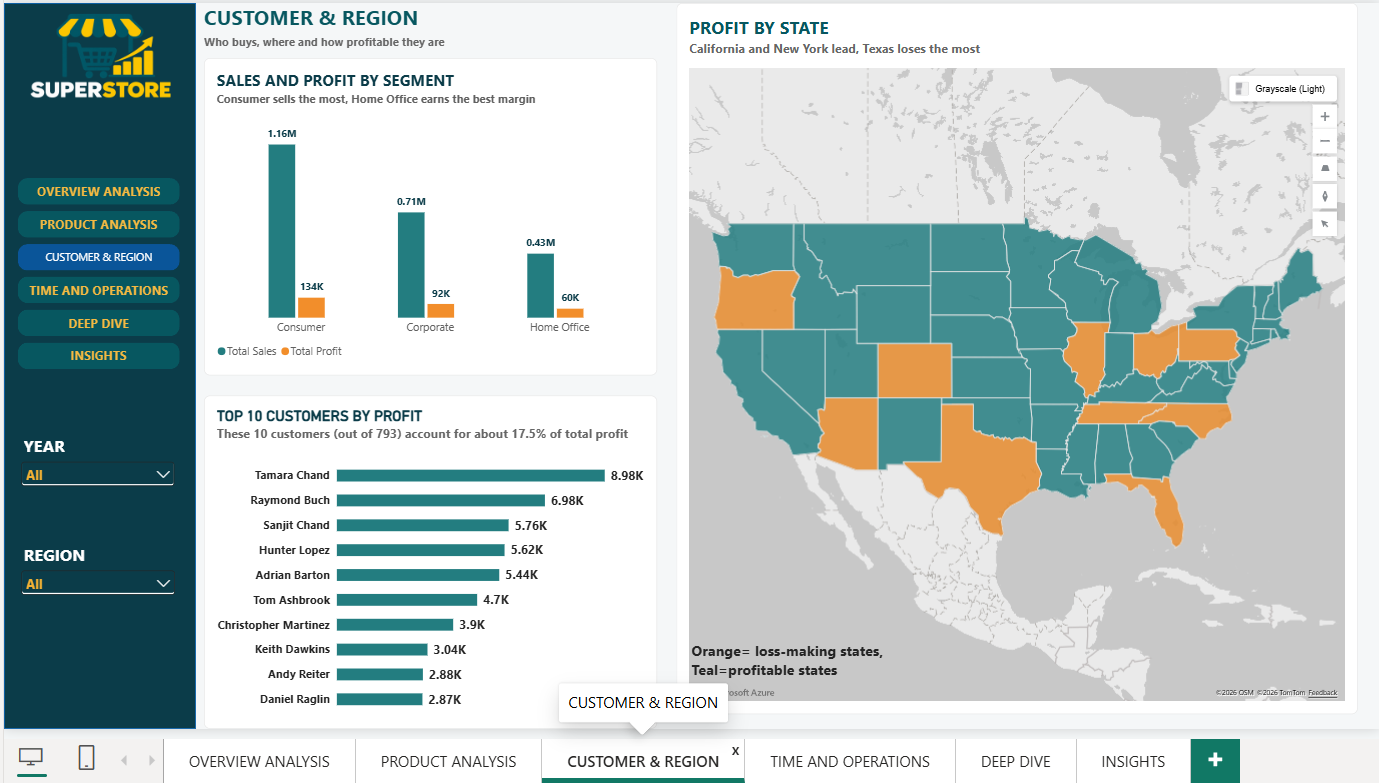

Layout of this report page (visuals, bound fields, positions):
{"tool":"powerbi","page":{"name":"CUSTOMER & REGION","canvas":[1800,950],"ordinal":2},"visuals":[{"type":"shape","box":[0,0,250.9,949.4],"z":0},{"type":"textbox","box":[261.6,0,539.6,49.1],"z":1000},{"type":"textbox","box":[261.6,40.9,493.8,31.1],"z":2000},{"type":"clusteredColumnChart","title":"SALES AND PROFIT BY SEGMENT","fields":{"Category":["superstore.Segment"],"Y":["_MEASURES.Total Sales","_MEASURES.Total Profit"]},"box":[262.4,71.4,592.4,414.9],"z":3000},{"type":"clusteredBarChart","title":"TOP 10 CUSTOMERS BY PROFIT","fields":{"Category":["superstore.Customer Name"],"Y":["_MEASURES.Total Profit"]},"box":[262.4,513.3,592.4,436.1],"z":4000},{"type":"azureMap","title":"PROFIT BY STATE","fields":{"Category":["superstore.State"]},"box":[879.9,0,891.5,930.1],"z":5000},{"type":"textbox","box":[899.2,833.6,299.1,96.5],"z":6000},{"type":"slicer","fields":{"Values":["Calender.year"]},"box":[18.5,564,210,88],"z":6001},{"type":"slicer","fields":{"Values":["superstore.Region"]},"box":[18.5,706,210.3,79.1],"z":6002},{"type":"pageNavigator","box":[18.5,228.5,212.3,252.8],"z":6003},{"type":"image","box":[0,0,251.1,140],"z":6004}]}

Visuals, with their boxes on the page's 1800x950 design canvas (x1, y1, x2, y2). These are canvas units, not pixel positions in the 1379x783 screenshot, which may show the page scaled, cropped or inside an application window:
shape: crop(0, 0, 251, 949)
textbox: crop(262, 0, 801, 49)
textbox: crop(262, 41, 755, 72)
"SALES AND PROFIT BY SEGMENT" clusteredColumnChart: crop(262, 71, 855, 486)
"TOP 10 CUSTOMERS BY PROFIT" clusteredBarChart: crop(262, 513, 855, 949)
"PROFIT BY STATE" azureMap: crop(880, 0, 1771, 930)
textbox: crop(899, 834, 1198, 930)
slicer - Calender.year: crop(18, 564, 228, 652)
slicer - superstore.Region: crop(18, 706, 229, 785)
pageNavigator: crop(18, 228, 231, 481)
image: crop(0, 0, 251, 140)
